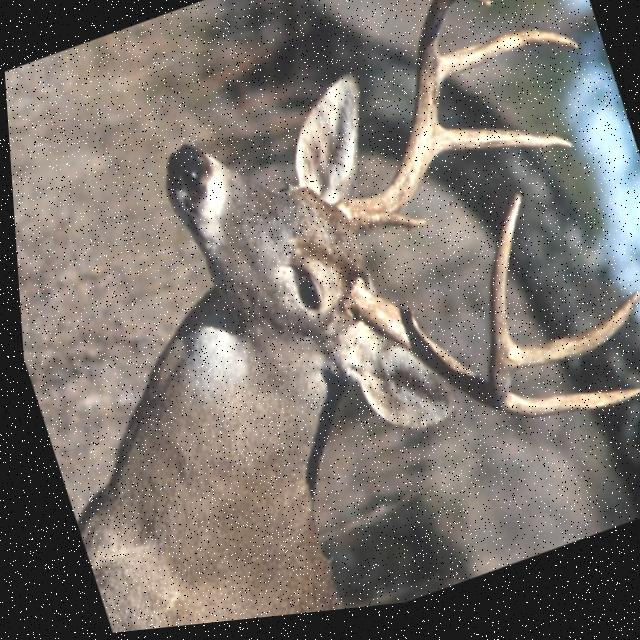L-F: (342, 203, 518, 419)
L-G2: (490, 398, 635, 428)
L-G3: (504, 302, 636, 383)
R-F: (334, 0, 491, 235)
R-G1: (364, 219, 422, 237)
R-G2: (433, 134, 570, 163)
R-G3: (436, 39, 577, 91)
